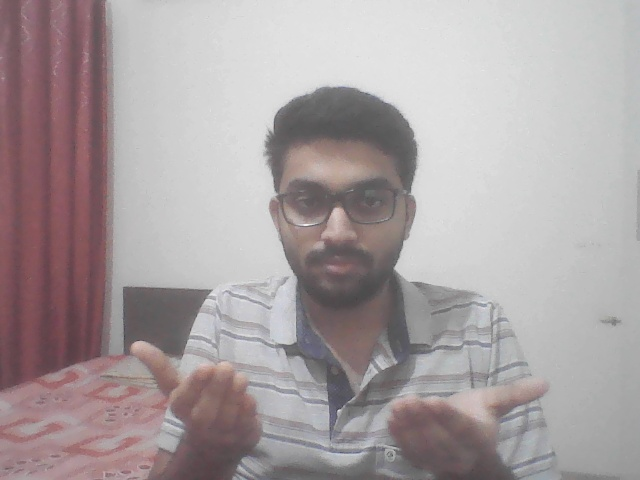what: (110, 315, 571, 478)
